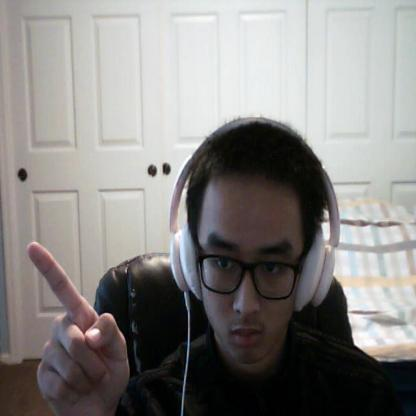finger_point: (24, 238, 99, 331)
